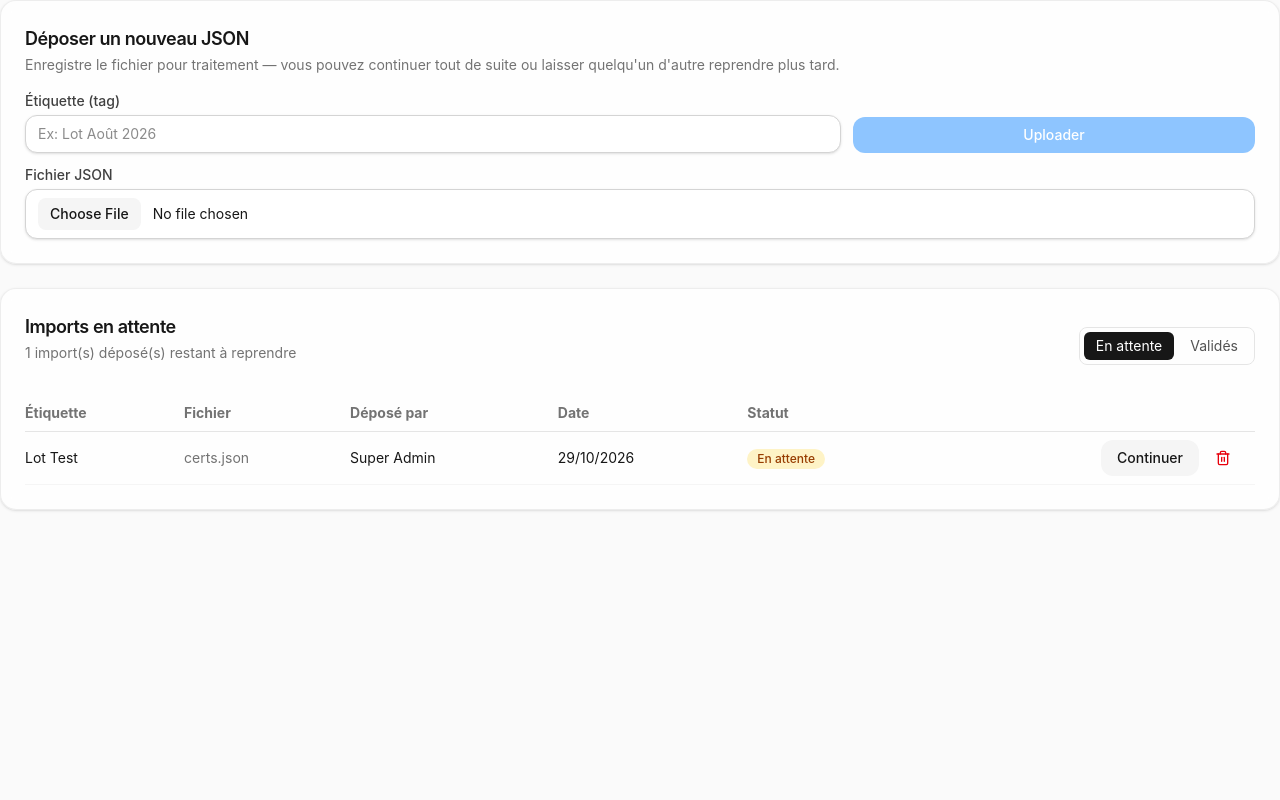
Test: ImportPage › shows "Aucun résultat" when a search matches nothing
Expected: the text "Lot Test" is shown, x1=25 y1=432 x2=184 y2=484
Click the button "Continuer". click: (1150, 458)
box: x1=1101 y1=440 x2=1199 y2=476
(page scrolled)
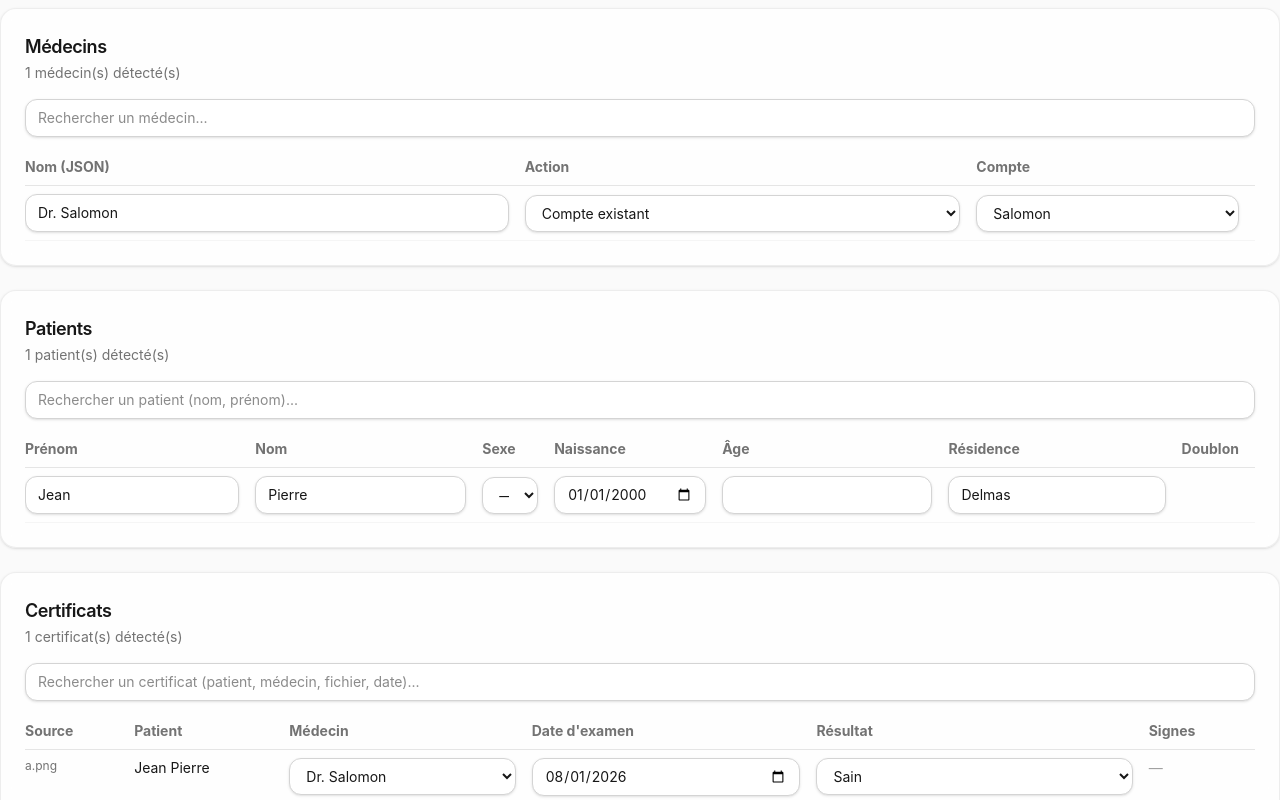
Expected: the heading "Certificats" is shown, x1=25 y1=600 x2=111 y2=621
Type "zzzzz" into the field with placeholder "Rechercher un patient (nom, prénom)...". click: (640, 400)
box: x1=25 y1=381 x2=1255 y2=419
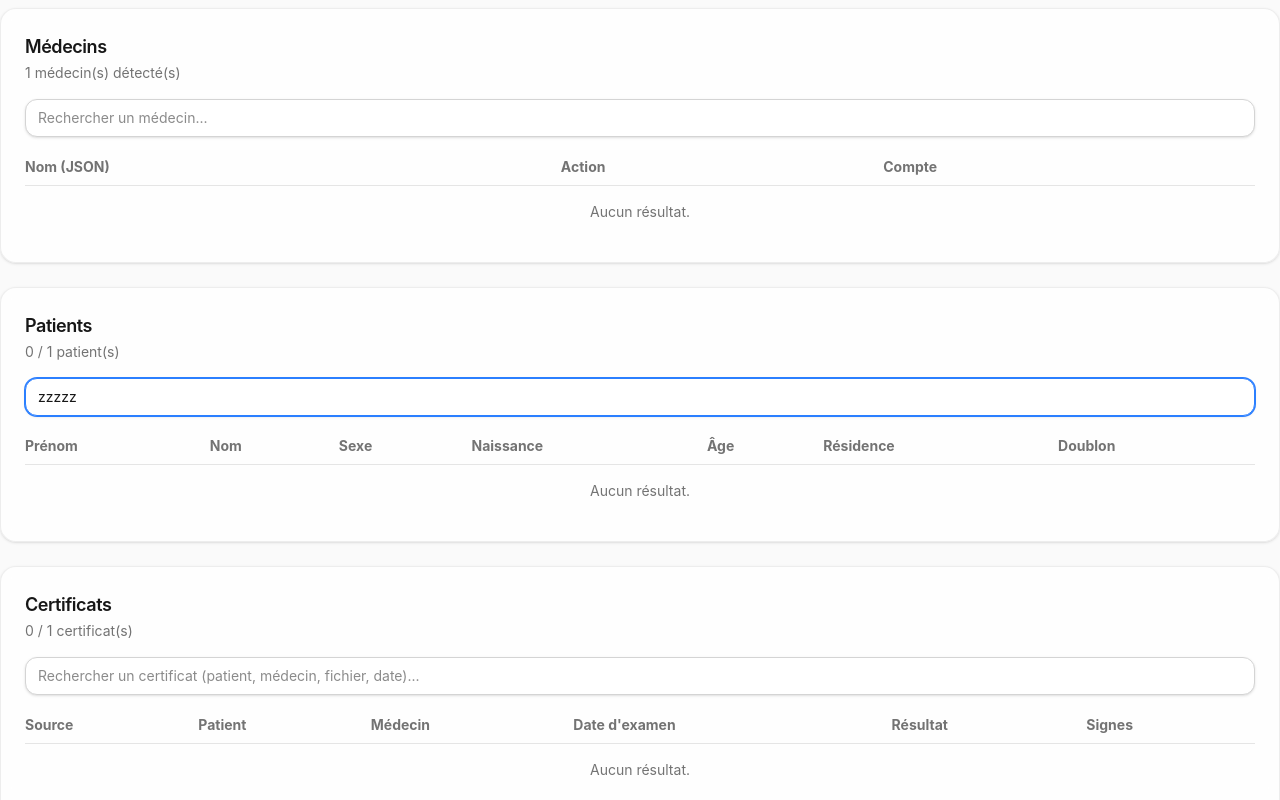
Expected: the text "Aucun résultat." below "Nom (JSON)" is shown, x1=590 y1=203 x2=690 y2=220
